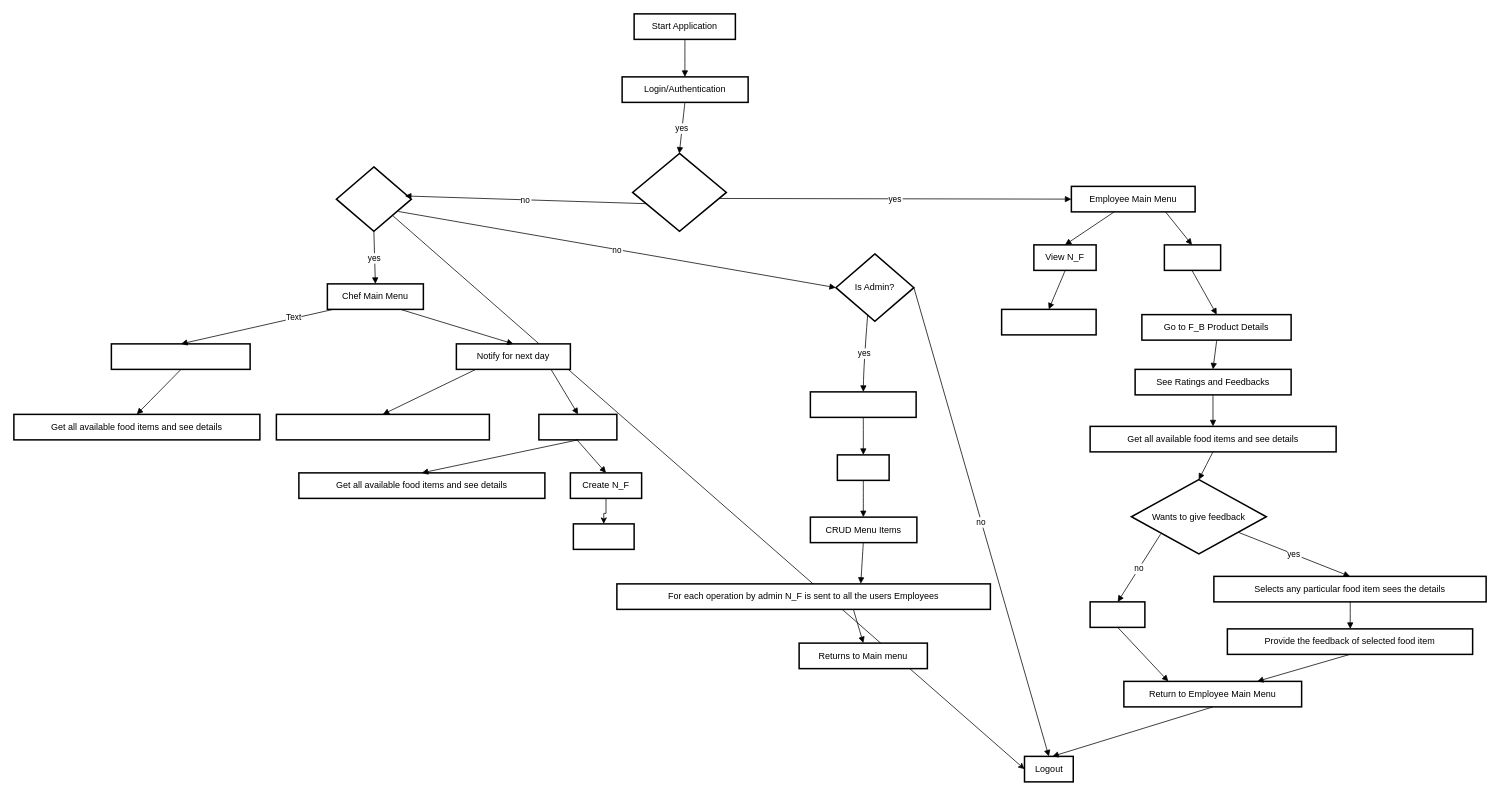
The diagram is 1499 pixels wide and 795 high, and some of its shapes have lost their labels. The shapes that lost their labels are listed below. From the top down, each one's centre as x and y in pixels, then its label:
At point (373, 199): "Is Chef?".
At point (679, 192): "Is Employee?".
At point (1192, 257): "Actions?".
At point (1048, 321): "Respond to N_F".
At point (180, 356): "See F_B Product Details".
At point (862, 404): "Admin Main Menu".
At point (382, 426): "View N_F Responses provided by user".
At point (577, 426): "N_F Actions?".
At point (863, 467): "Actions".
At point (603, 536): "Send N_F".
At point (1117, 614): "Go back".
